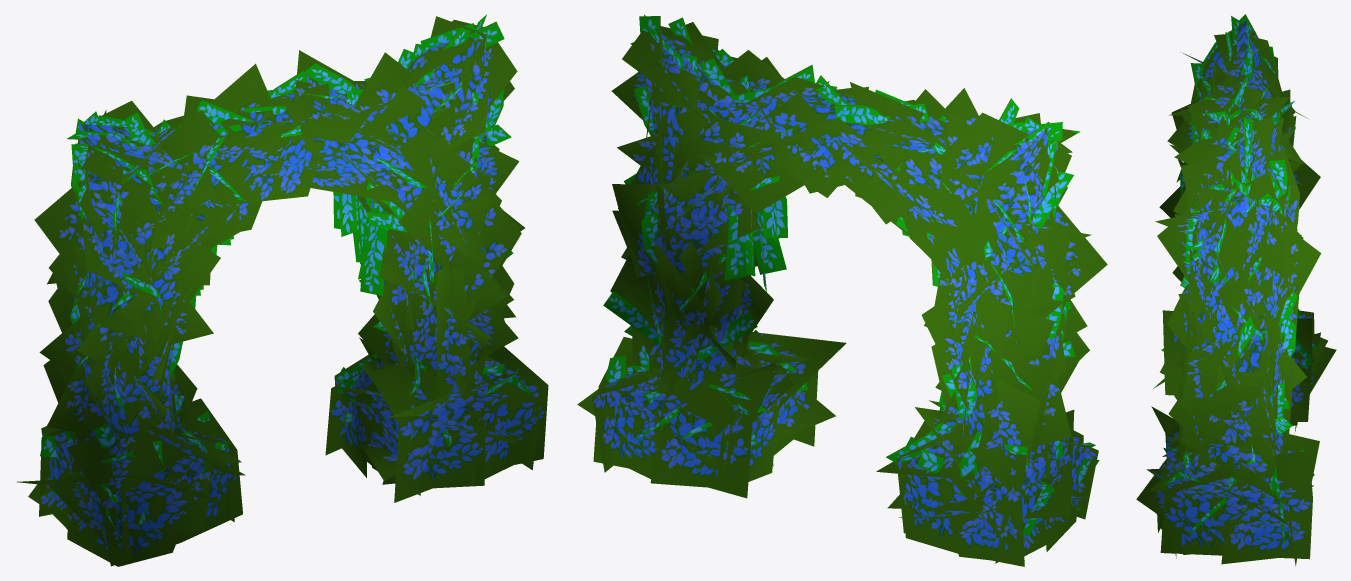
The model's file is Homeworld_Exterior_Common_Flower_Decoration_Door_01_A_Lod0.fbx.
3 views of the same model, side by side, from view 1: azimuth 30°, elevation 25°; view 2: azimuth 150°, elevation 25°; view 3: azimuth 270°, elevation 25° (orthographic). The views are drawn at different scales.
Visible parts, largest first — view 1: Homeworld_Exterior_Common_Flower_Decoration_Door_01_A_Lod0; view 2: Homeworld_Exterior_Common_Flower_Decoration_Door_01_A_Lod0; view 3: Homeworld_Exterior_Common_Flower_Decoration_Door_01_A_Lod0.
Boxes of the visible parts, <box> form: Homeworld_Exterior_Common_Flower_Decoration_Door_01_A_Lod0: <box>16,14,548,566</box>; Homeworld_Exterior_Common_Flower_Decoration_Door_01_A_Lod0: <box>577,14,1107,566</box>; Homeworld_Exterior_Common_Flower_Decoration_Door_01_A_Lod0: <box>1136,14,1336,566</box>.
Bounding box in the file's own units: 4.51 × 3.93 × 1.84.
